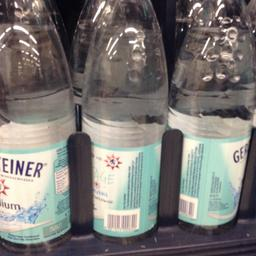water: (73, 1, 167, 242), (167, 0, 254, 237), (0, 0, 74, 253)
